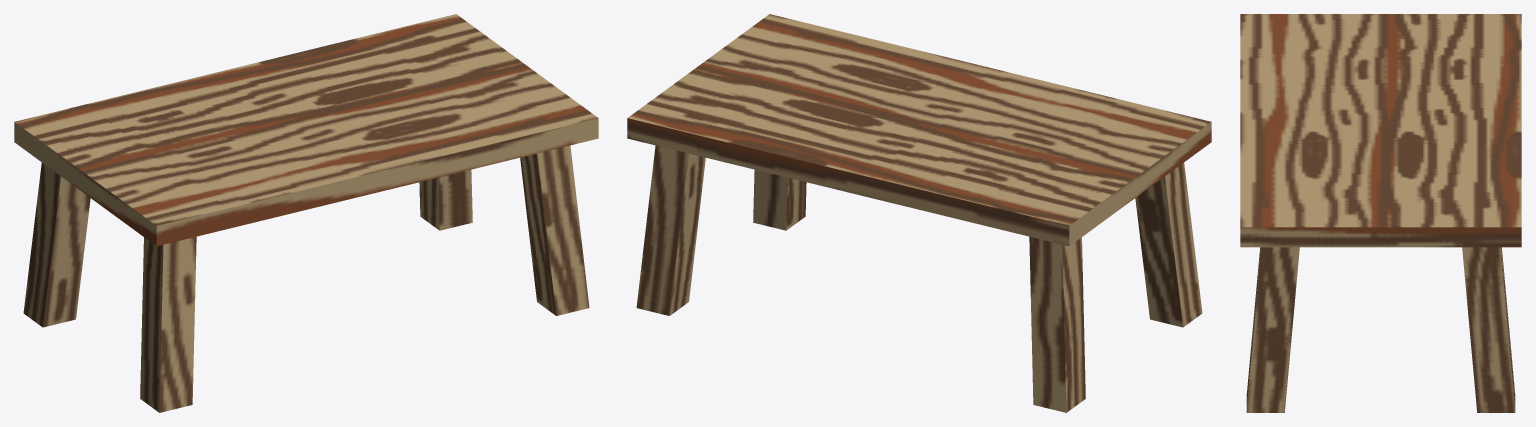
File: Table_01.FBX
The picture shows the model from 3 angles, left to right: view 1: azimuth 30°, elevation 25°; view 2: azimuth 150°, elevation 25°; view 3: azimuth 270°, elevation 25°; orthographic projection.
Parts seen in each view (by area): view 1: Table; view 2: Table; view 3: Table.
Boxes of the visible parts, x1=… form: Table: x1=14, y1=14, x2=598, y2=412; Table: x1=627, y1=14, x2=1211, y2=412; Table: x1=1240, y1=14, x2=1521, y2=412.
Bounding box in the file's own units: 2.35 × 0.9715 × 1.31.
1 material, 1 textured.
